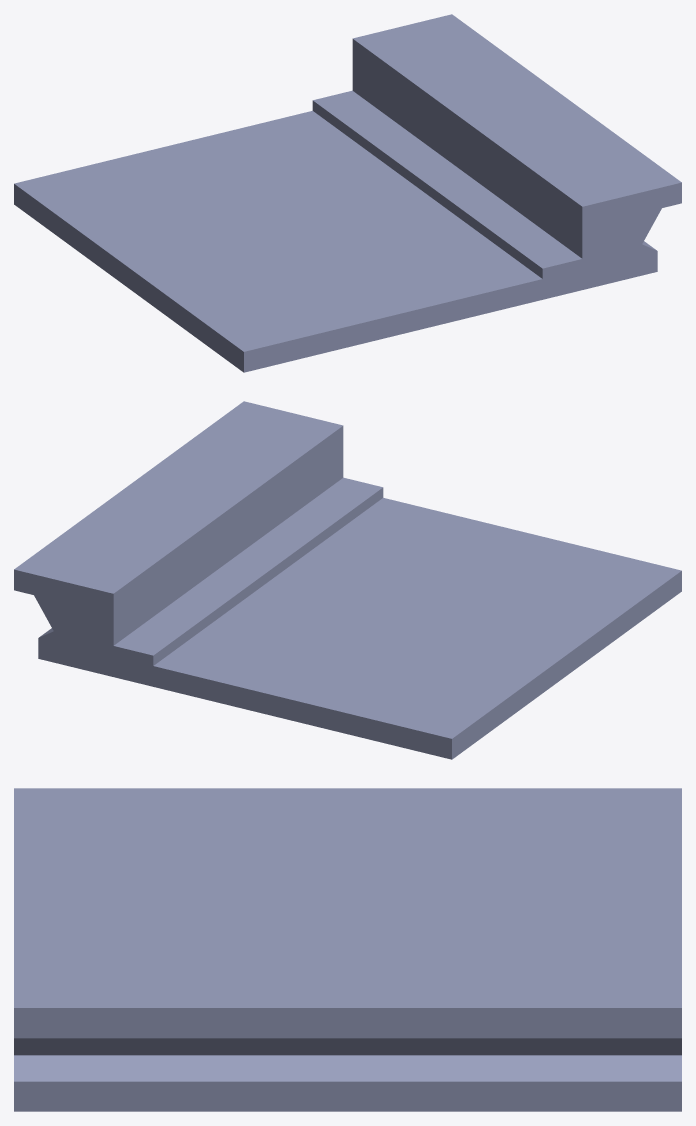
File: roof-flat-side.obj
3 renders of one model, top to bottom at view 1: azimuth 30°, elevation 25°; view 2: azimuth 150°, elevation 25°; view 3: azimuth 270°, elevation 25°, orthographic. The views are drawn at different scales.
Bounding box in the file's own units: 2.2 × 0.4 × 2.
